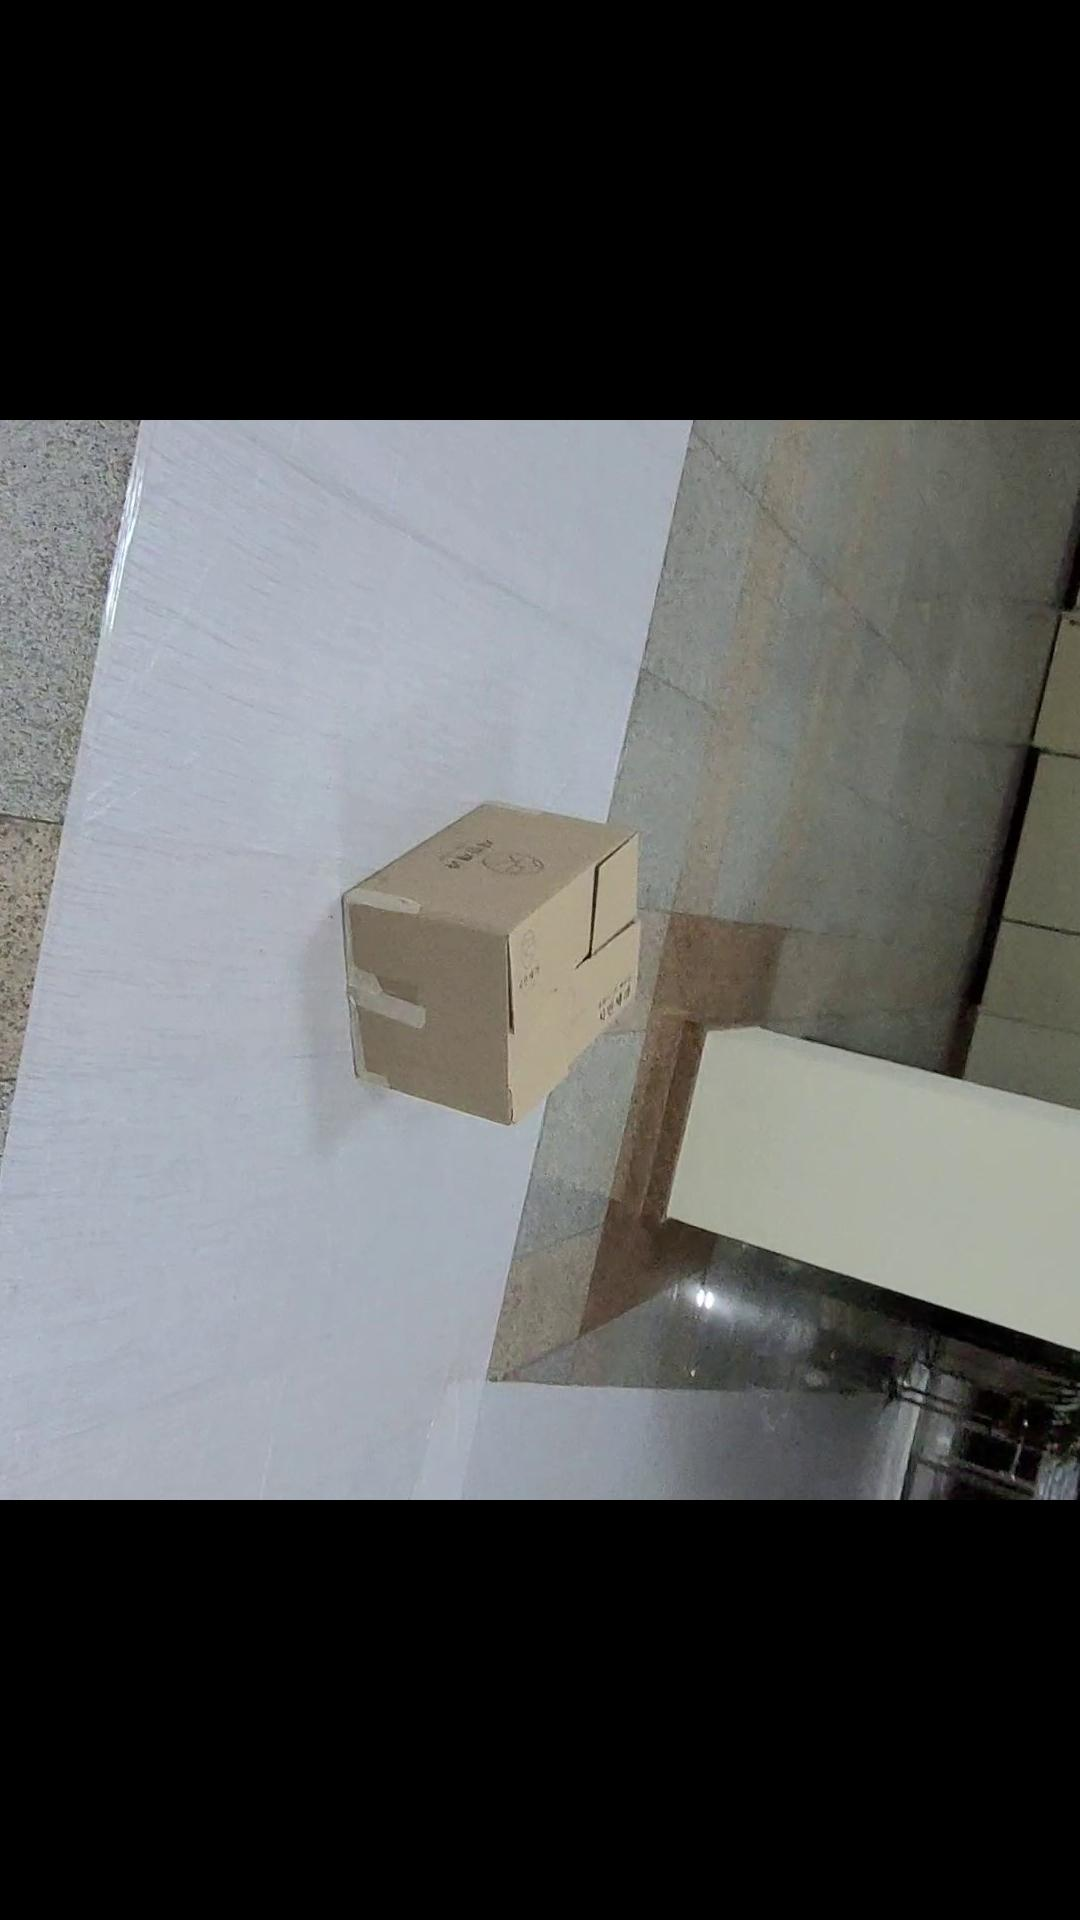Box: (285, 800, 673, 1145)
